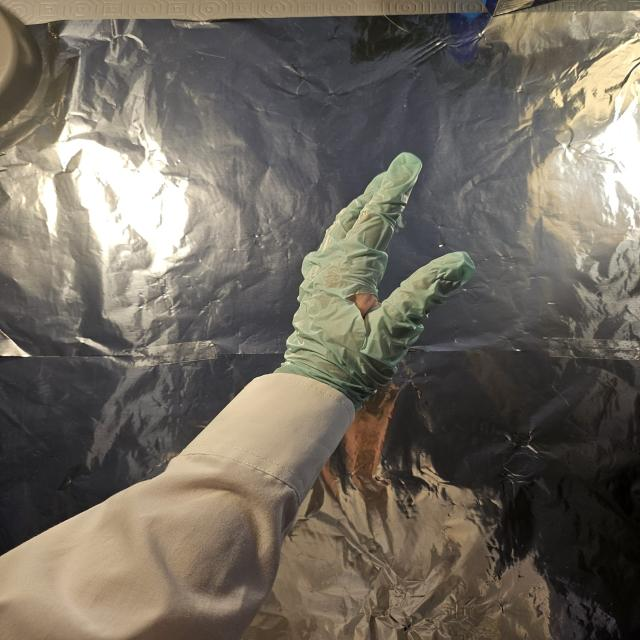gloves_damaged: (282, 152, 478, 393)
